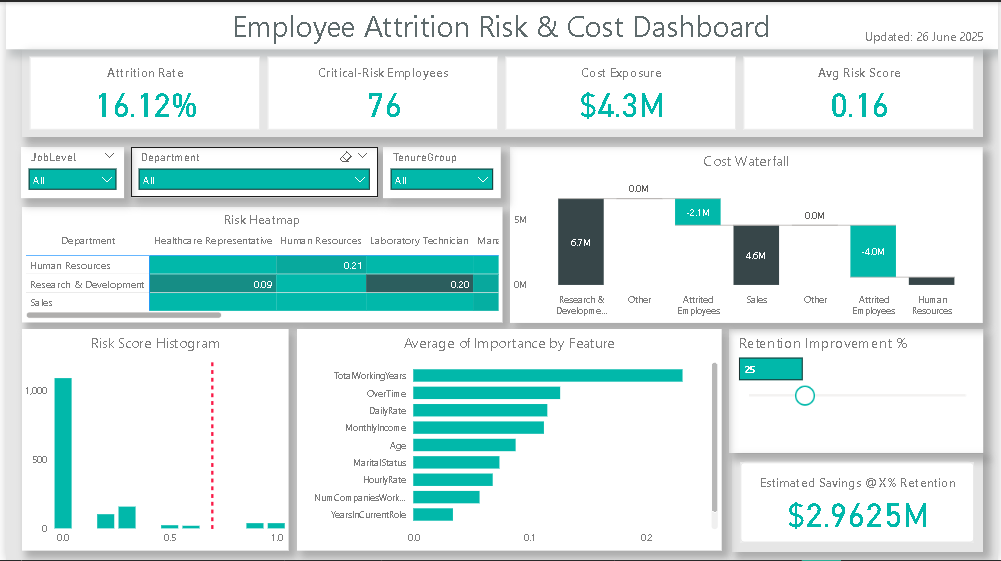

The dashboard page shown, as its layout file describes it:
{"tool":"powerbi","page":{"name":"Employee Attrition Risk & Cost Dashboard","canvas":[1280,720],"ordinal":0},"visuals":[{"type":"textbox","box":[0,0,1279.5,60.7],"z":0},{"type":"slicer","fields":{"Values":["RetentionImpact.RetentionImpact"]},"box":[932.5,422.2,328.2,160.5],"z":1000},{"type":"pivotTable","title":"Risk Heatmap","fields":{"Rows":["employee_attrition_risk_scores.Department"],"Columns":["employee_attrition_risk_scores.JobRole"],"Values":["Avg(employee_attrition_risk_scores.AttritionRisk)"]},"box":[20.2,264.6,620.2,148.9],"z":2000},{"type":"waterfallChart","title":"Cost Waterfall","fields":{"Category":["Waterfall Departments.Department"],"Breakdown":["employee_attrition_risk_scores.Cost Type"],"Y":["Sum(employee_attrition_risk_scores.AttritionCost)"]},"box":[650.6,186.5,610.1,227],"z":3000},{"type":"clusteredColumnChart","title":"Risk Score Histogram","fields":{"Category":["employee_attrition_risk_scores.AttritionRisk (bins)"],"Y":["CountNonNull(employee_attrition_risk_scores.EmployeeNumber)"]},"box":[20.2,422.2,344.1,286.3],"z":4000},{"type":"clusteredBarChart","fields":{"Category":["top_attrition_drivers.Feature"],"Y":["Avg(top_attrition_drivers.Importance)"]},"box":[375.9,422.2,548,286.3],"z":5000},{"type":"cardVisual","fields":{"Data":["employee_attrition_risk_scores.EstimatedSavings"]},"box":[936.9,582.7,323.9,125.8],"z":6000},{"type":"slicer","fields":{"Values":["employee_attrition_risk_scores.Department"]},"box":[161.9,186.5,318.1,65.1],"z":7000},{"type":"slicer","fields":{"Values":["employee_attrition_risk_scores.JobLevel"]},"box":[19.8,186.5,133.3,65.6],"z":8000},{"type":"slicer","fields":{"Values":["employee_attrition_risk_scores.TenureGroup"]},"box":[486.5,186.5,152.1,65.6],"z":9000},{"type":"cardVisual","fields":{"Data":["employee_attrition_risk_scores.Attrition Rate","employee_attrition_risk_scores.High Risk Count","employee_attrition_risk_scores.Cost Exposure","employee_attrition_risk_scores.Avg Risk Score"]},"box":[20.2,60.7,1240.5,114.2],"z":10000},{"type":"cardVisual","fields":{"Data":["RetentionImpact.LastUpdated"]},"box":[904.3,8.3,374,53.2],"z":11000}]}

Visuals, with their boxes in screenshot pixels (x1, y1, x2, y2), scaled from the page's 1280x720 canvas onto the 1001x561 screenshot:
textbox: [x1=0, y1=0, x2=1000, y2=47]
slicer - RetentionImpact.RetentionImpact: [x1=729, y1=329, x2=986, y2=454]
"Risk Heatmap" pivotTable: [x1=16, y1=206, x2=501, y2=322]
"Cost Waterfall" waterfallChart: [x1=509, y1=145, x2=986, y2=322]
"Risk Score Histogram" clusteredColumnChart: [x1=16, y1=329, x2=285, y2=552]
clusteredBarChart - top_attrition_drivers.Feature x Avg(top_attrition_drivers.Importance): [x1=294, y1=329, x2=723, y2=552]
cardVisual - employee_attrition_risk_scores.EstimatedSavings: [x1=733, y1=454, x2=986, y2=552]
slicer - employee_attrition_risk_scores.Department: [x1=127, y1=145, x2=375, y2=196]
slicer - employee_attrition_risk_scores.JobLevel: [x1=15, y1=145, x2=120, y2=196]
slicer - employee_attrition_risk_scores.TenureGroup: [x1=380, y1=145, x2=499, y2=196]
cardVisual - employee_attrition_risk_scores.Attrition Rate x employee_attrition_risk_scores.High Risk Count: [x1=16, y1=47, x2=986, y2=136]
cardVisual - RetentionImpact.LastUpdated: [x1=707, y1=6, x2=1000, y2=48]
